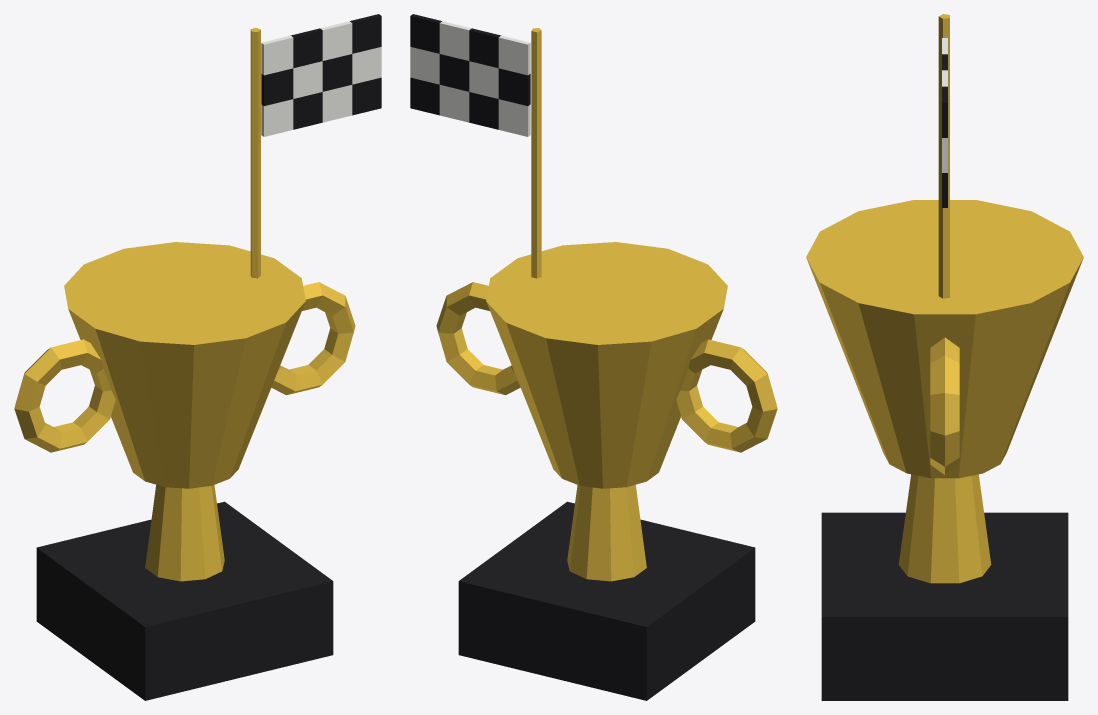
The model's file is race_trophy.glb.
The picture shows the model from 3 angles, left to right: view 1: azimuth 30°, elevation 25°; view 2: azimuth 150°, elevation 25°; view 3: azimuth 270°, elevation 25°; orthographic projection. The views are drawn at different scales.
Parts seen in each view (by area): view 1: cup_trophy_gold, base_trophy_base, flag_flag_white, flag_flag_black; view 2: cup_trophy_gold, base_trophy_base, flag_flag_white, flag_flag_black; view 3: cup_trophy_gold, base_trophy_base, flag_flag_black.
Part boxes in pixels (bbox=[...]): cup_trophy_gold: bbox=[14, 28, 355, 581]; base_trophy_base: bbox=[36, 501, 333, 700]; flag_flag_white: bbox=[261, 21, 381, 136]; flag_flag_black: bbox=[261, 14, 381, 129]; cup_trophy_gold: bbox=[436, 28, 777, 581]; base_trophy_base: bbox=[458, 501, 755, 700]; flag_flag_white: bbox=[410, 21, 530, 136]; flag_flag_black: bbox=[410, 14, 530, 129]; cup_trophy_gold: bbox=[806, 14, 1083, 583]; base_trophy_base: bbox=[821, 512, 1068, 700]; flag_flag_black: bbox=[942, 54, 947, 207].
Bounding box in the file's own units: 0.311 × 0.48 × 0.18.
